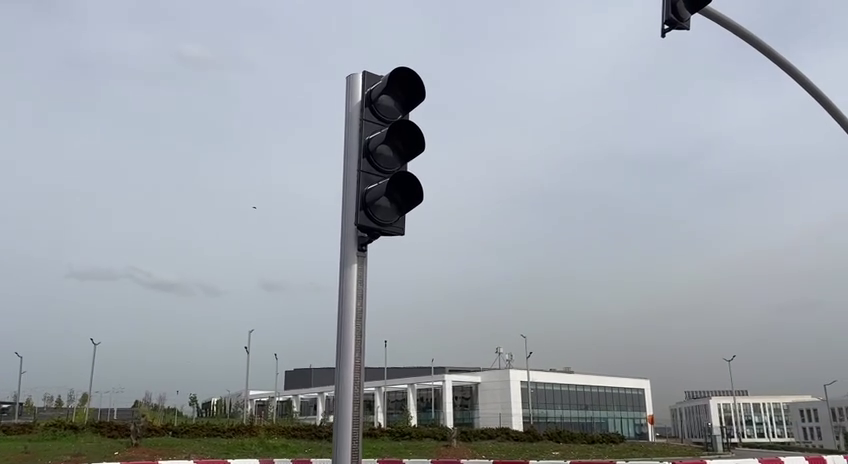trafficLight: (335, 62, 432, 250), (657, 1, 715, 39)
